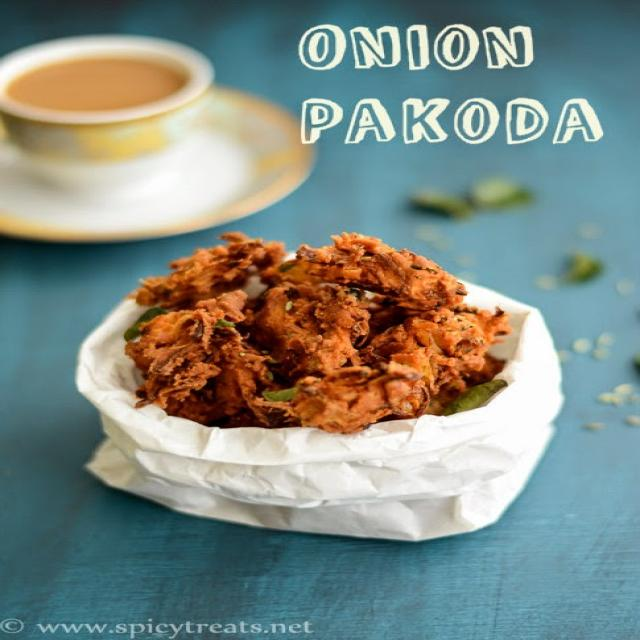BAJI: (130, 224, 522, 422)
